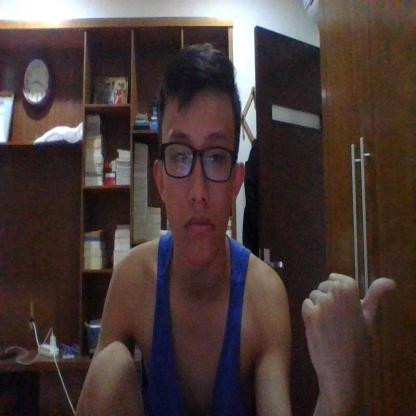left: (299, 268, 397, 383)
